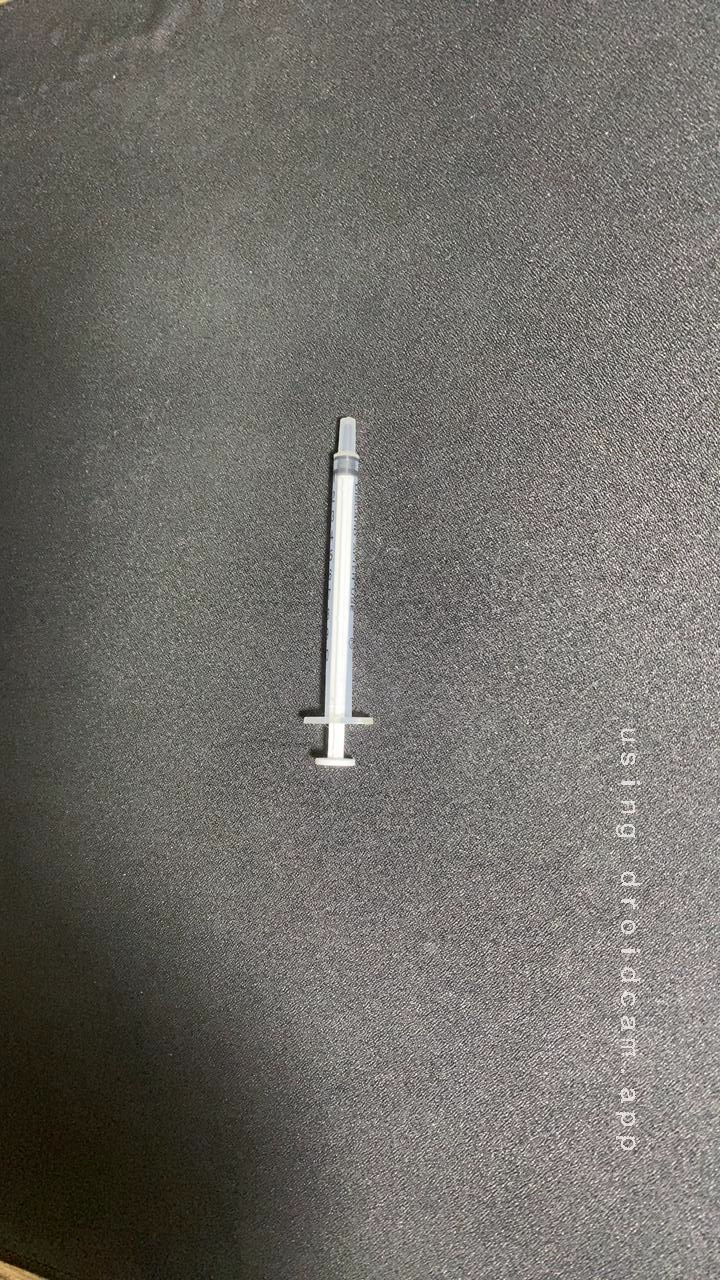syringe: (266, 404, 398, 783)
